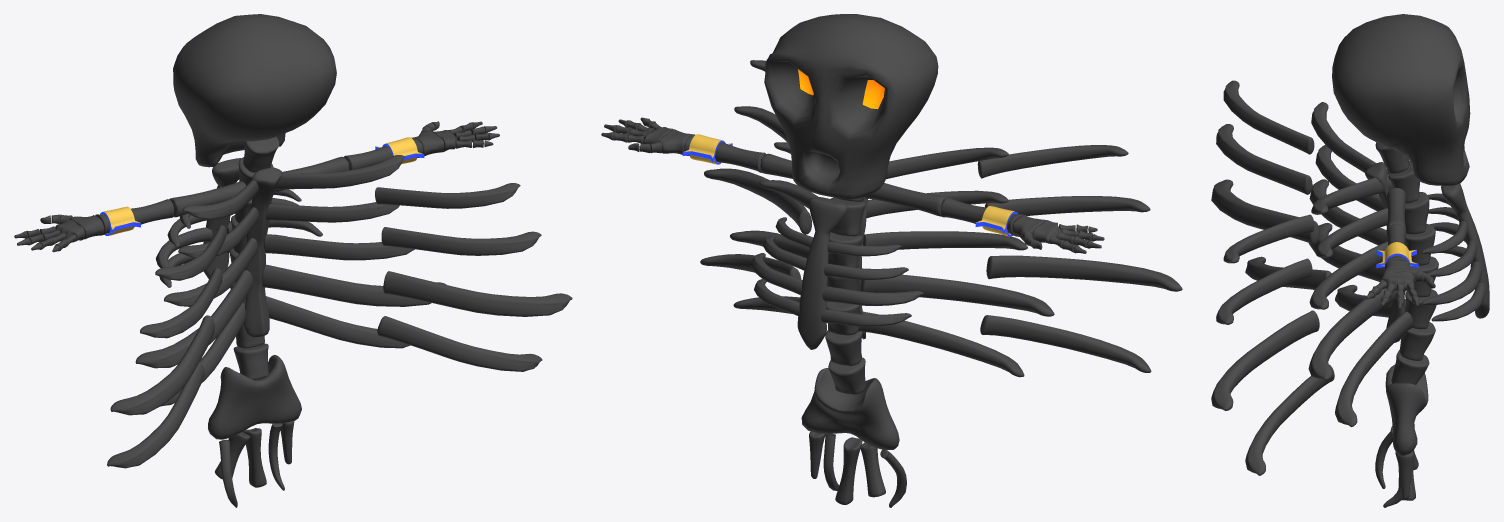
The model's file is enemy.fbx.
The picture shows the model from 3 angles, left to right: view 1: azimuth 30°, elevation 25°; view 2: azimuth 150°, elevation 25°; view 3: azimuth 270°, elevation 25°; orthographic projection. The views are drawn at different scales.
Visible parts, largest first — view 1: enemy.001; view 2: enemy.001; view 3: enemy.001.
Part boxes in pixels (x1=…): enemy.001: x1=14, y1=14, x2=572, y2=507; enemy.001: x1=601, y1=14, x2=1182, y2=507; enemy.001: x1=1211, y1=14, x2=1489, y2=507.
Size of the model in its own units: 2.15 by 2.02 by 1.06.
